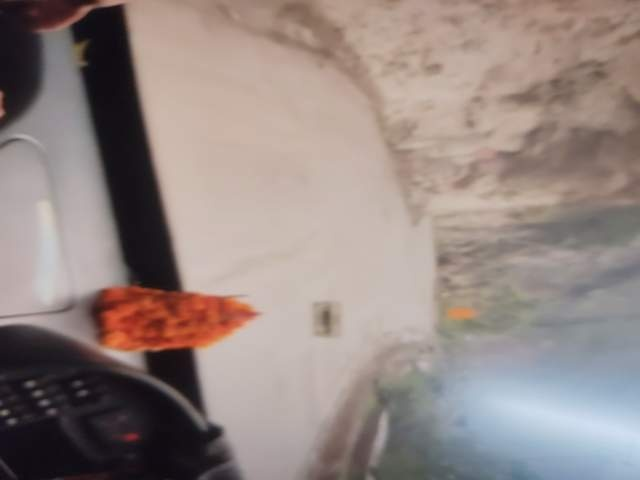pothole: (189, 311, 289, 391)
